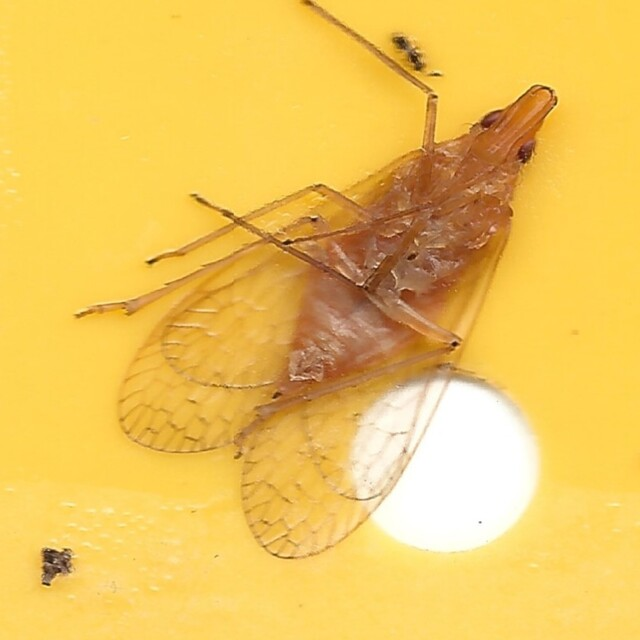Hemiptera: (80, 77, 560, 563)
